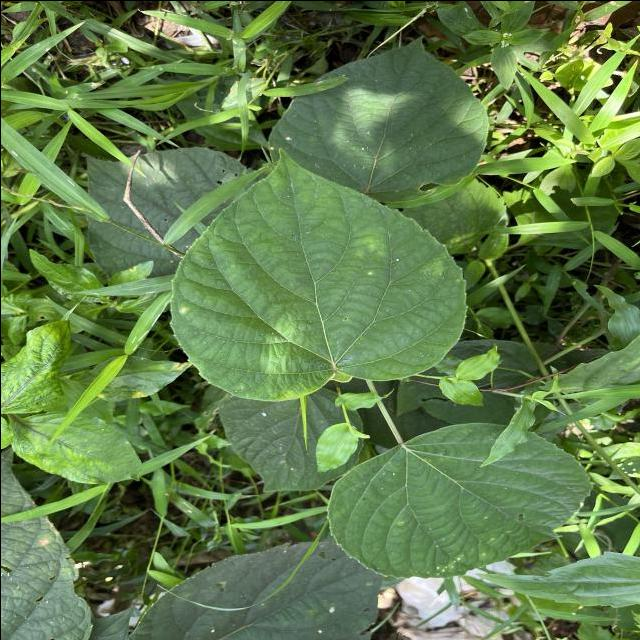Clerodendrum infortunatum: (162, 144, 467, 403), (322, 419, 592, 579), (262, 32, 490, 203)
